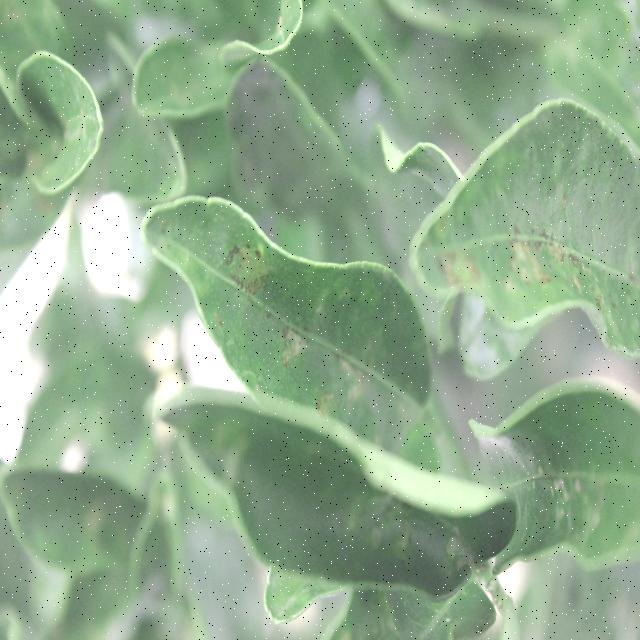canker: (182, 204, 421, 460), (431, 148, 636, 340)
